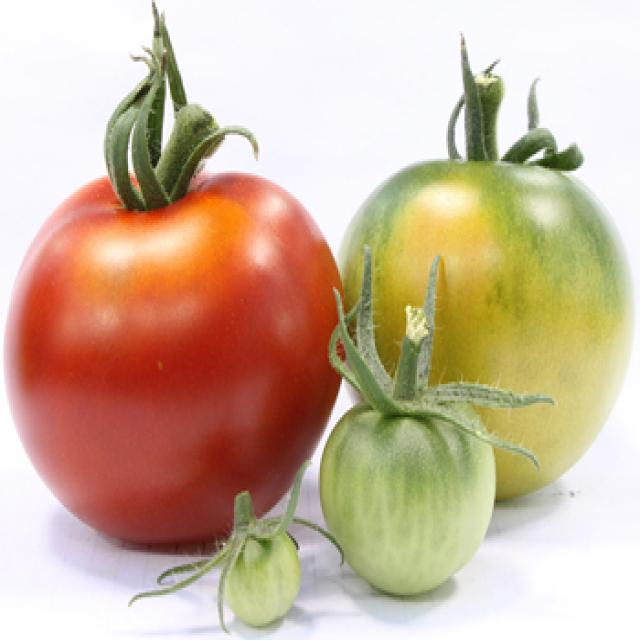kirmizi: (11, 100, 343, 492)
yesil: (323, 145, 640, 605), (220, 495, 304, 640)
